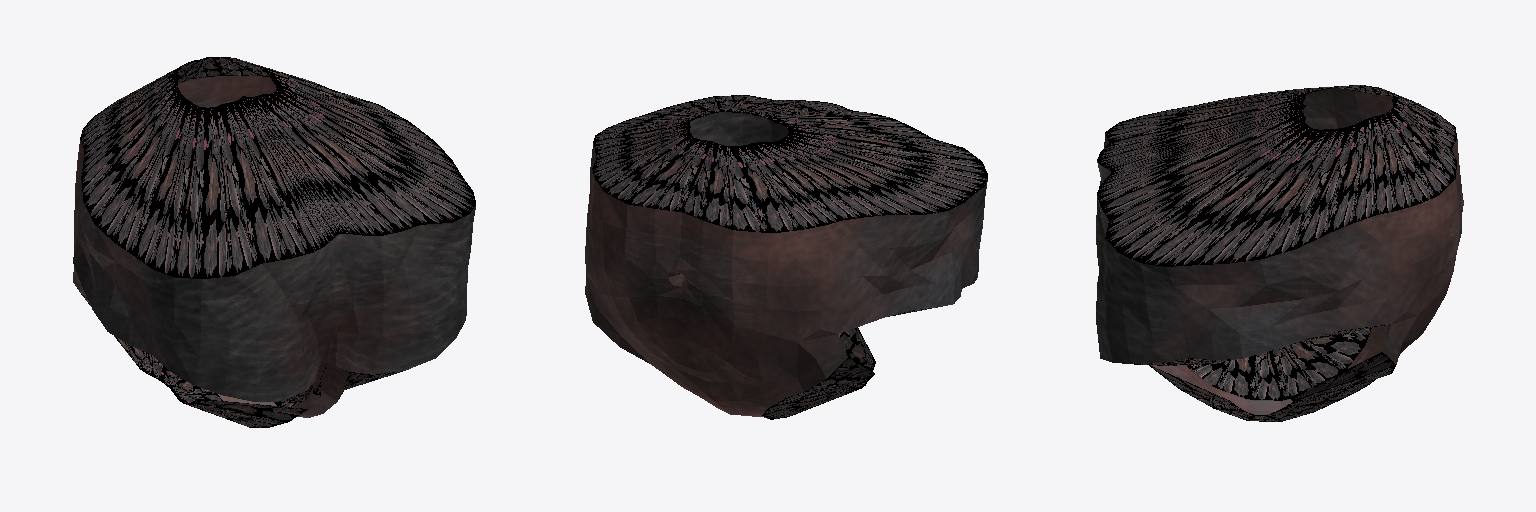
3 renders of one model, left to right at view 1: azimuth 30°, elevation 25°; view 2: azimuth 150°, elevation 25°; view 3: azimuth 270°, elevation 25°, orthographic.
Parts seen in each view (by area): view 1: Root_M_Spine1_M_Cut, Root_M_Hip_L_Cut; view 2: Root_M_Spine1_M_Cut, Root_M_Hip_L_Cut; view 3: Root_M_Spine1_M_Cut, Root_M_Hip_L_Cut.
Part boxes in pixels (x1,y1,x2,y2): Root_M_Spine1_M_Cut: (73,57,475,402); Root_M_Hip_L_Cut: (73,267,349,427); Root_M_Spine1_M_Cut: (585,95,987,341); Root_M_Hip_L_Cut: (585,273,875,419); Root_M_Spine1_M_Cut: (1096,85,1463,365); Root_M_Hip_L_Cut: (1149,274,1452,421).
Size of the model in its own units: 2.54 by 2.22 by 2.37.
Materials: 1 (1 with a texture image).